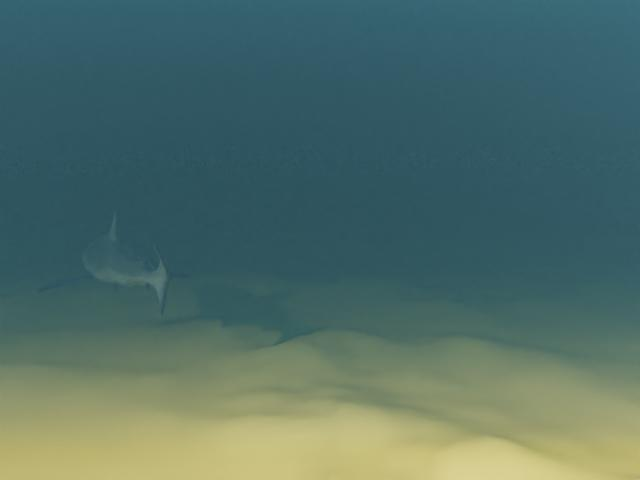Carribean Shark.001: (35, 208, 190, 315)
